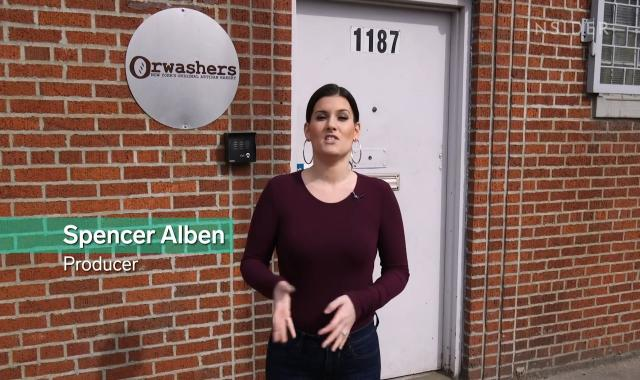no_hairnet: (304, 84, 362, 158)
